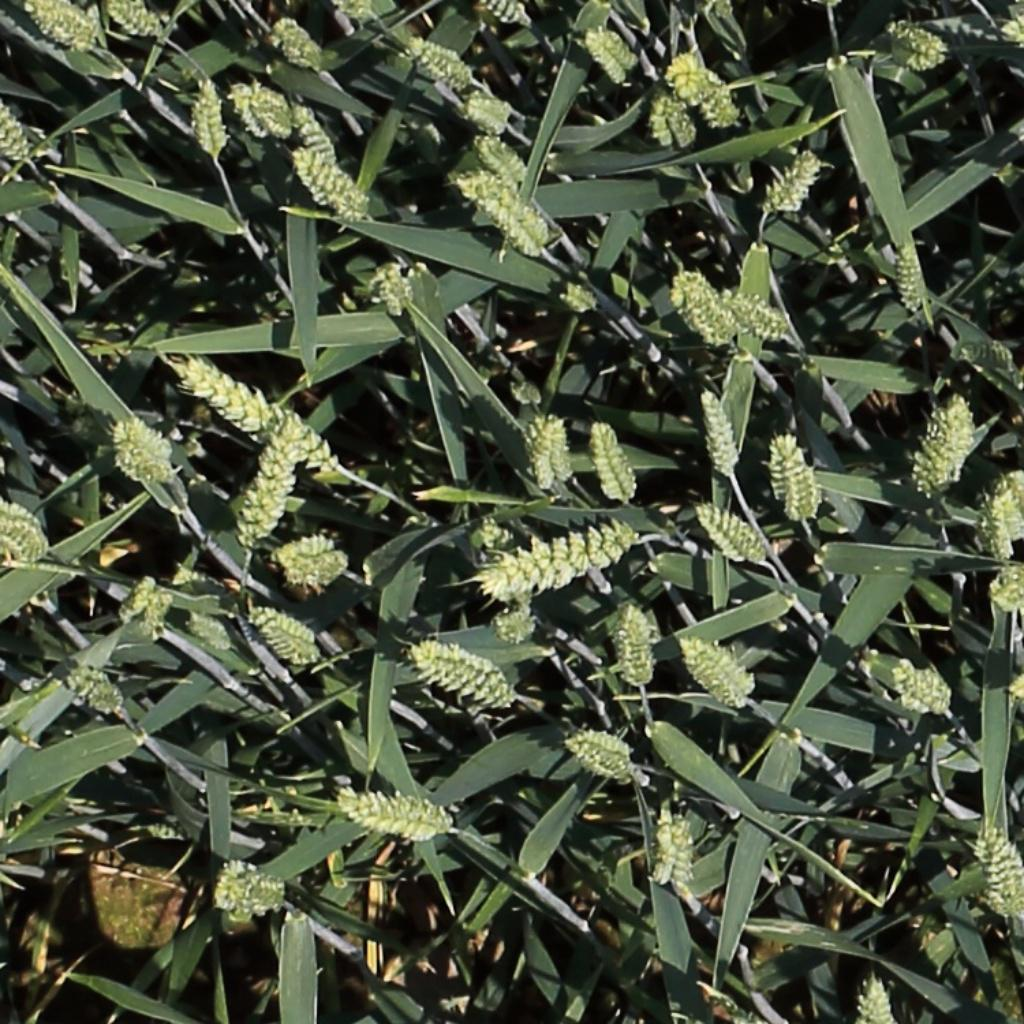0-0: (474, 526, 639, 656), (182, 357, 338, 470), (237, 410, 309, 563), (408, 638, 514, 705), (339, 790, 469, 844), (464, 172, 550, 252), (290, 146, 368, 218), (681, 636, 750, 711), (928, 390, 980, 487), (669, 57, 741, 125), (675, 270, 737, 348), (589, 415, 640, 509), (765, 141, 826, 218), (696, 502, 767, 563), (113, 569, 174, 638), (700, 383, 742, 480), (978, 823, 1019, 922), (114, 430, 174, 496), (289, 95, 341, 169), (406, 35, 473, 87), (719, 289, 791, 337), (218, 865, 283, 917), (475, 128, 531, 188), (249, 618, 319, 666), (268, 17, 329, 72), (892, 660, 951, 716), (281, 537, 342, 590), (649, 88, 696, 156), (582, 27, 636, 86), (236, 84, 296, 137), (28, 2, 98, 47), (248, 608, 318, 653), (566, 740, 638, 783), (0, 64, 31, 163), (64, 664, 122, 714), (622, 599, 651, 693), (196, 72, 225, 165), (899, 232, 929, 318), (987, 953, 1024, 1022), (543, 409, 576, 486), (670, 809, 696, 902), (989, 475, 1021, 550), (887, 25, 947, 62), (655, 805, 679, 894), (107, 0, 163, 38), (770, 428, 795, 512), (0, 514, 47, 557), (185, 610, 233, 652), (380, 258, 410, 322), (959, 342, 1017, 374), (864, 970, 894, 1024), (991, 565, 1022, 611), (464, 94, 514, 122), (336, 0, 384, 28), (484, 0, 532, 25), (561, 281, 599, 311)
